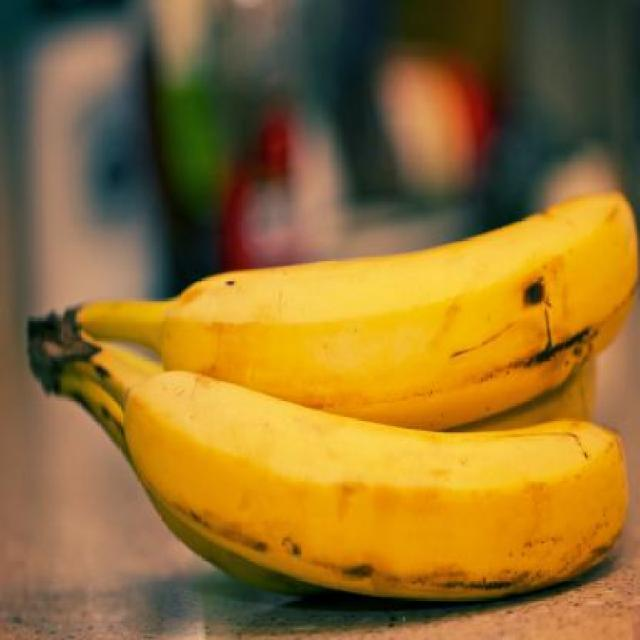Banana: (56, 192, 639, 432), (53, 393, 330, 598), (453, 363, 592, 428)
